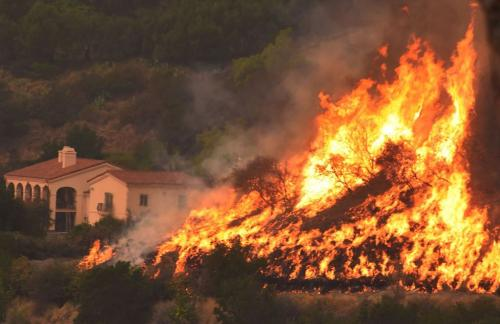fire: (160, 24, 496, 291)
